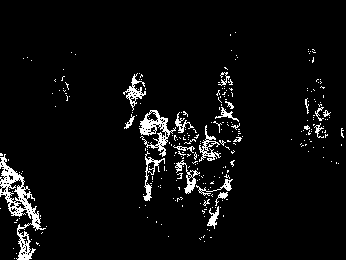person: (1, 149, 45, 260), (193, 137, 233, 243), (168, 110, 200, 203), (141, 109, 167, 202), (213, 101, 242, 181), (124, 71, 147, 129), (217, 65, 236, 117)
